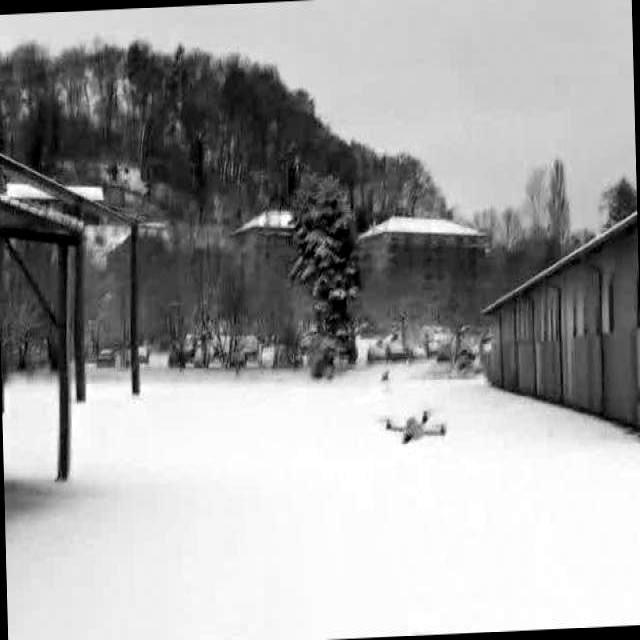drone: (371, 392, 486, 456)
